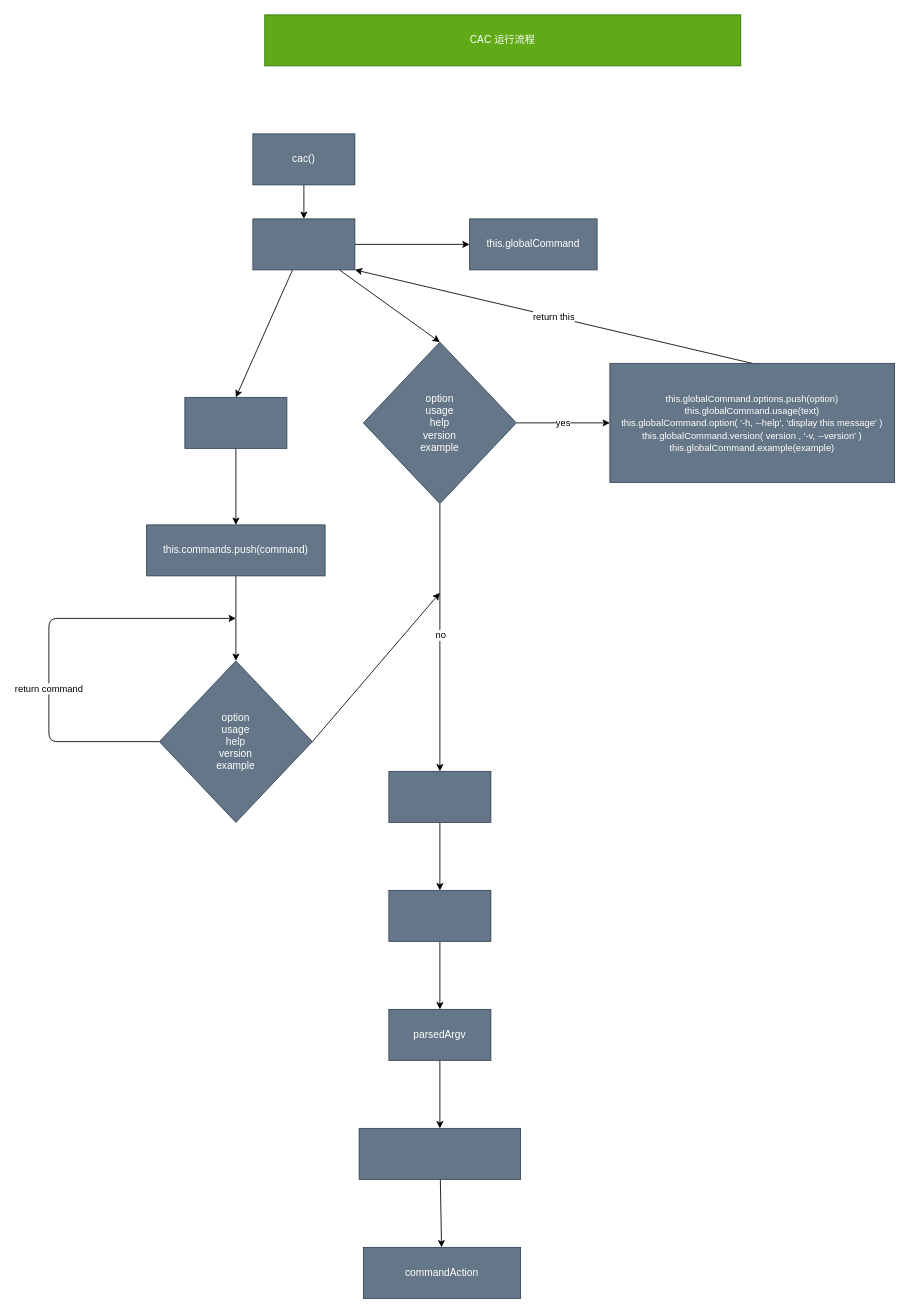
This 910x1313 diagram has some shape labels left out. Here are the shapes that lost their labels. From the top down, the box of each, then its label:
(252, 218, 355, 270): new CAC()
(184, 397, 287, 448): command
(388, 771, 491, 822): parse
(388, 890, 491, 941): emit command
(358, 1128, 521, 1179): runMatchedCommand
